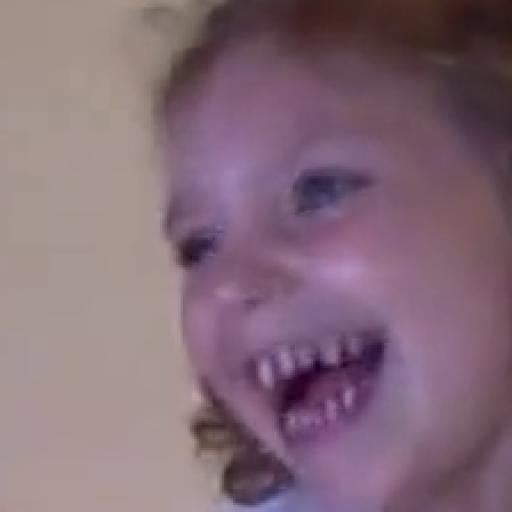Autism: (136, 43, 512, 512)
